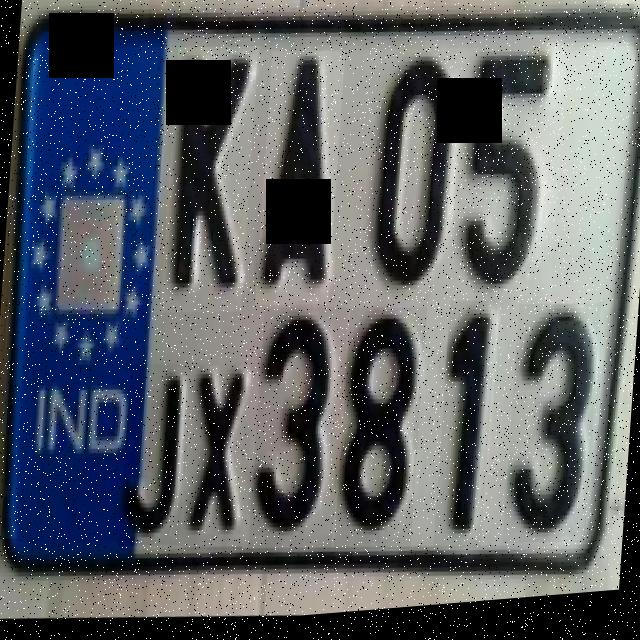0: (362, 43, 466, 297)
1: (434, 306, 498, 559)
3: (247, 307, 348, 560), (502, 307, 601, 557)
5: (458, 38, 568, 311)
8: (333, 309, 427, 561)
A: (254, 52, 345, 316)
J: (118, 363, 190, 552)
K: (160, 45, 258, 320)
X: (182, 363, 255, 559)
